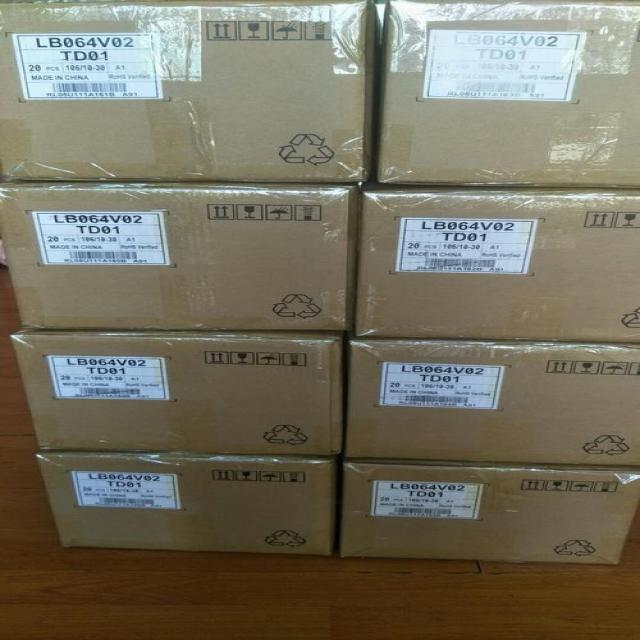box: (0, 1, 378, 184), (1, 181, 365, 332), (371, 0, 640, 188), (351, 184, 640, 343), (10, 330, 348, 455), (342, 337, 639, 470), (334, 458, 639, 565), (35, 450, 342, 555)
